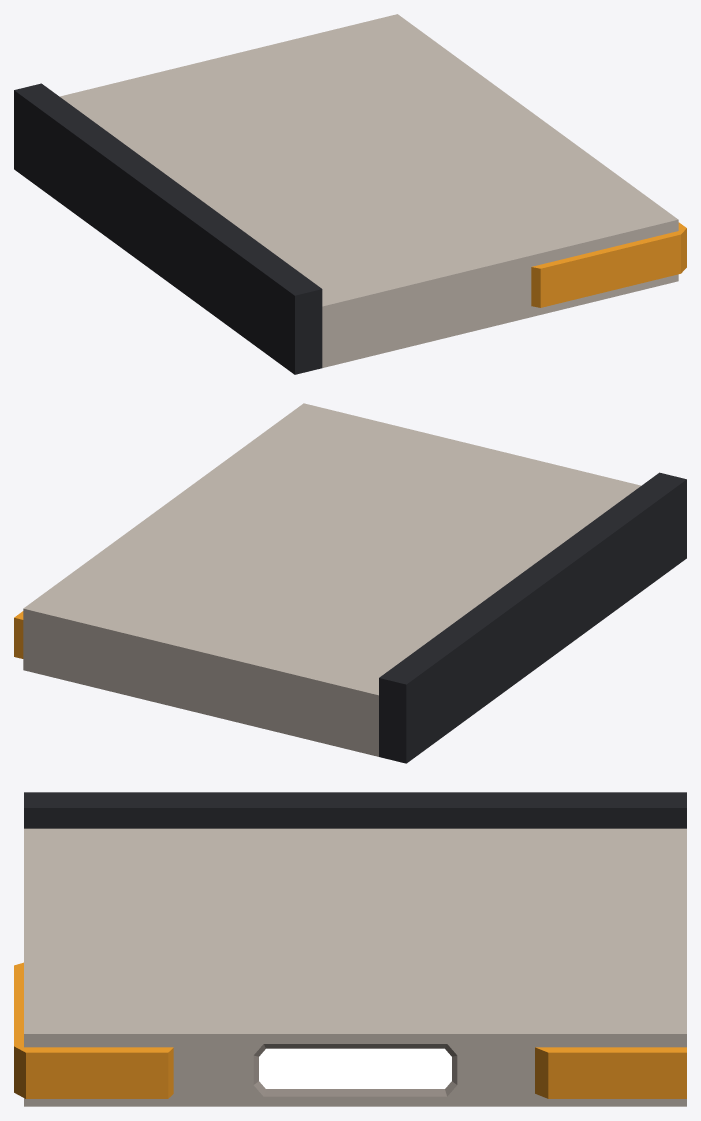
Rendered from SM_Handing_Table_Top_Kinchen_D.glb.
3 views of the same model, one above another, from view 1: azimuth 30°, elevation 25°; view 2: azimuth 150°, elevation 25°; view 3: azimuth 270°, elevation 25° (orthographic). The views are drawn at different scales.
Parts seen in each view (by area): view 1: SM_Handing_Table_Top_Kinchen_D; view 2: SM_Handing_Table_Top_Kinchen_D; view 3: SM_Handing_Table_Top_Kinchen_D.
Part boxes in pixels (x1,y1,x2,y2): SM_Handing_Table_Top_Kinchen_D: [14, 14, 686, 374]; SM_Handing_Table_Top_Kinchen_D: [14, 403, 686, 763]; SM_Handing_Table_Top_Kinchen_D: [14, 792, 686, 1106].
Bounding box in the file's own units: 0.6367 × 0.1226 × 0.8.
2 materials, 1 textured.
